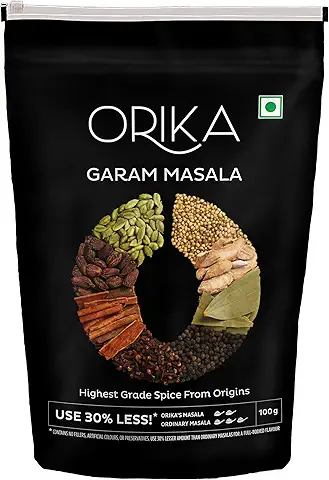Garamasala: (1, 7, 317, 480)
